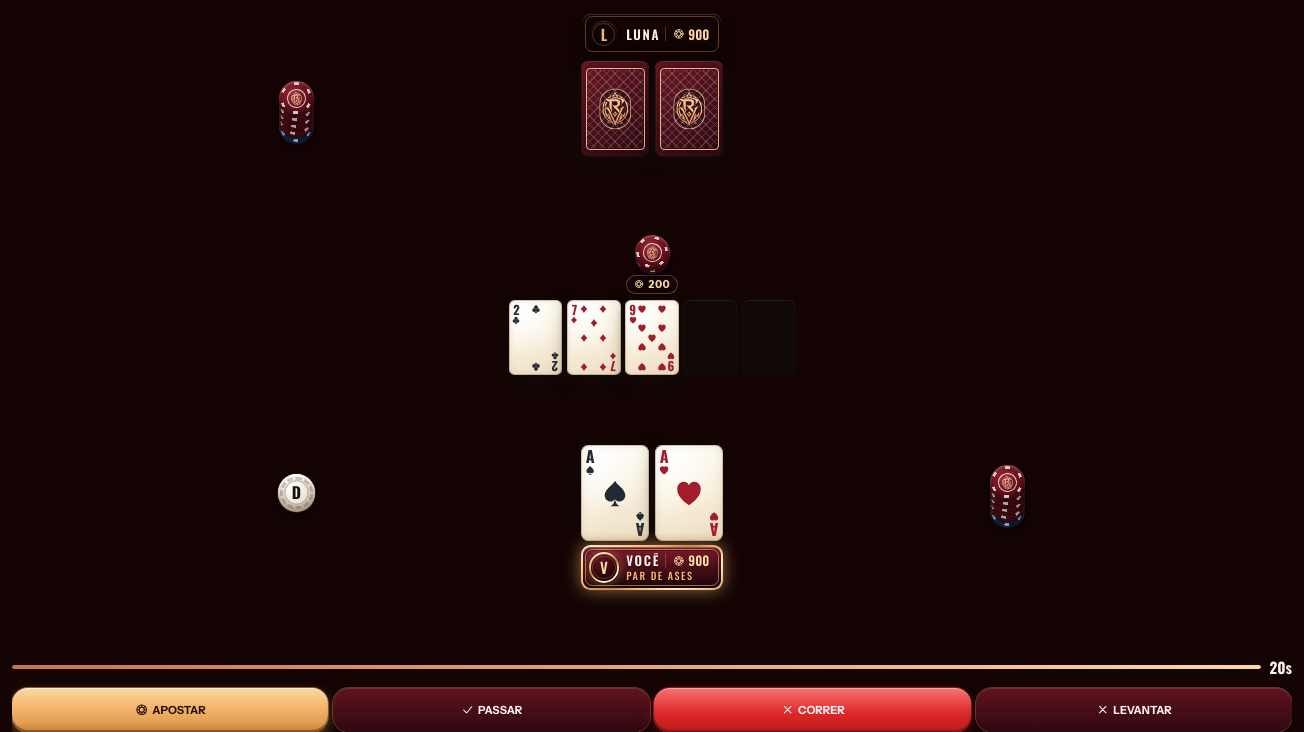
Test: PokerArena — a barra de apostas › os atalhos +10 e +100 somam ao que está no campo
The width and height of the screenshot is (1304, 732).
Click the button with test id "action-raise" at (170, 710), box [12, 688, 328, 731]
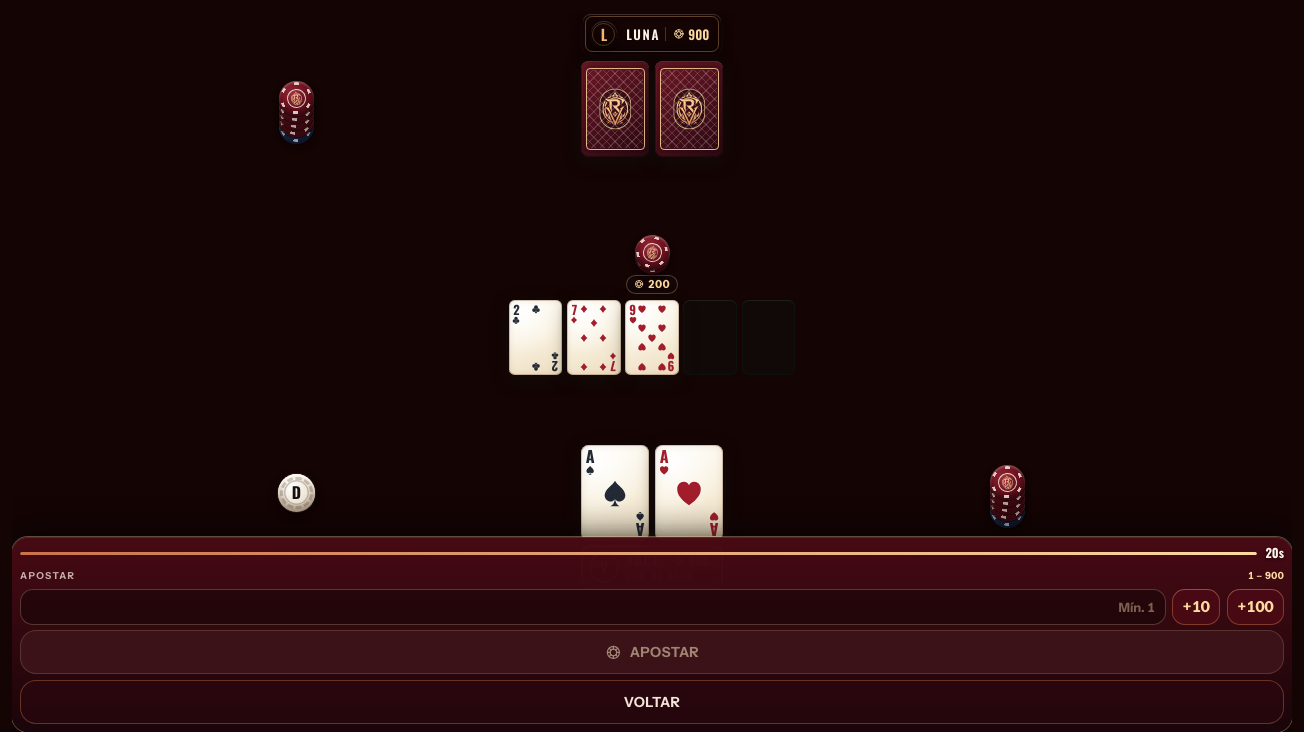
Type "100" into the field with test id "raise-input" at (593, 607), box [20, 589, 1166, 625]
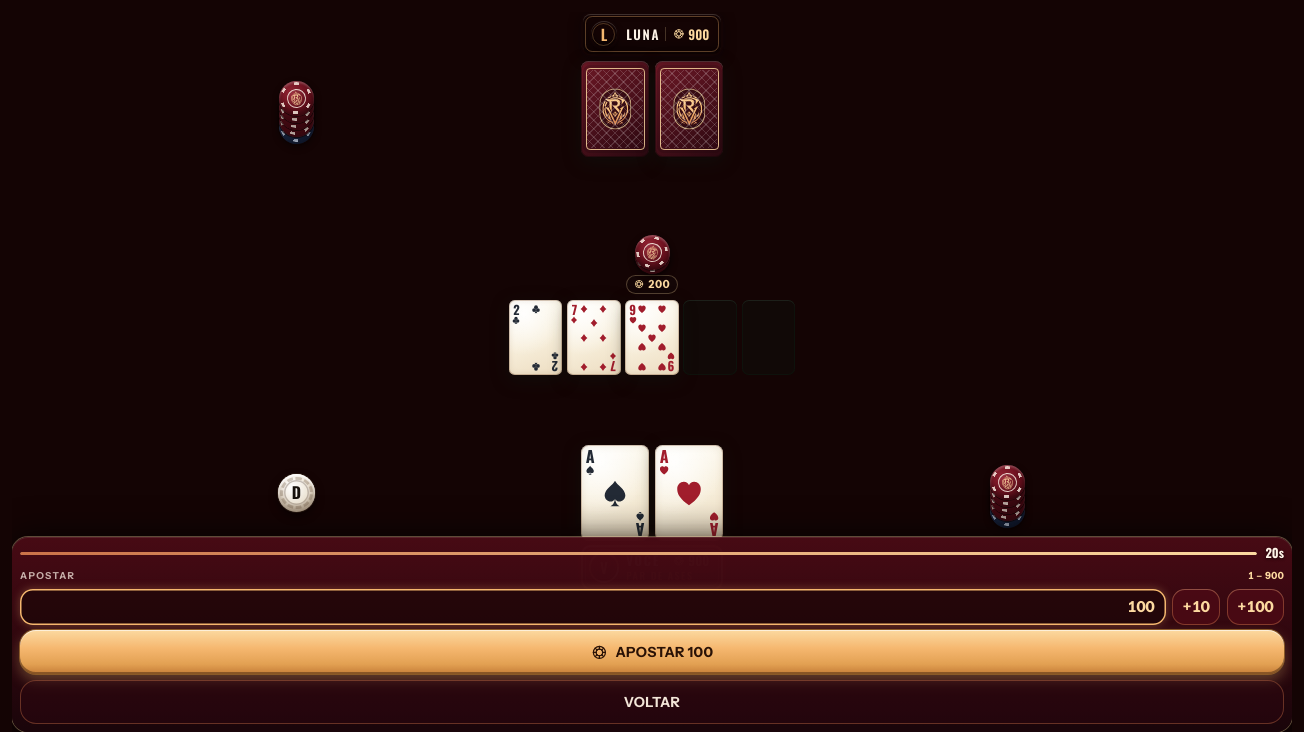
Click the button with test id "raise-plus-10" at (1196, 607), box [1172, 589, 1220, 625]
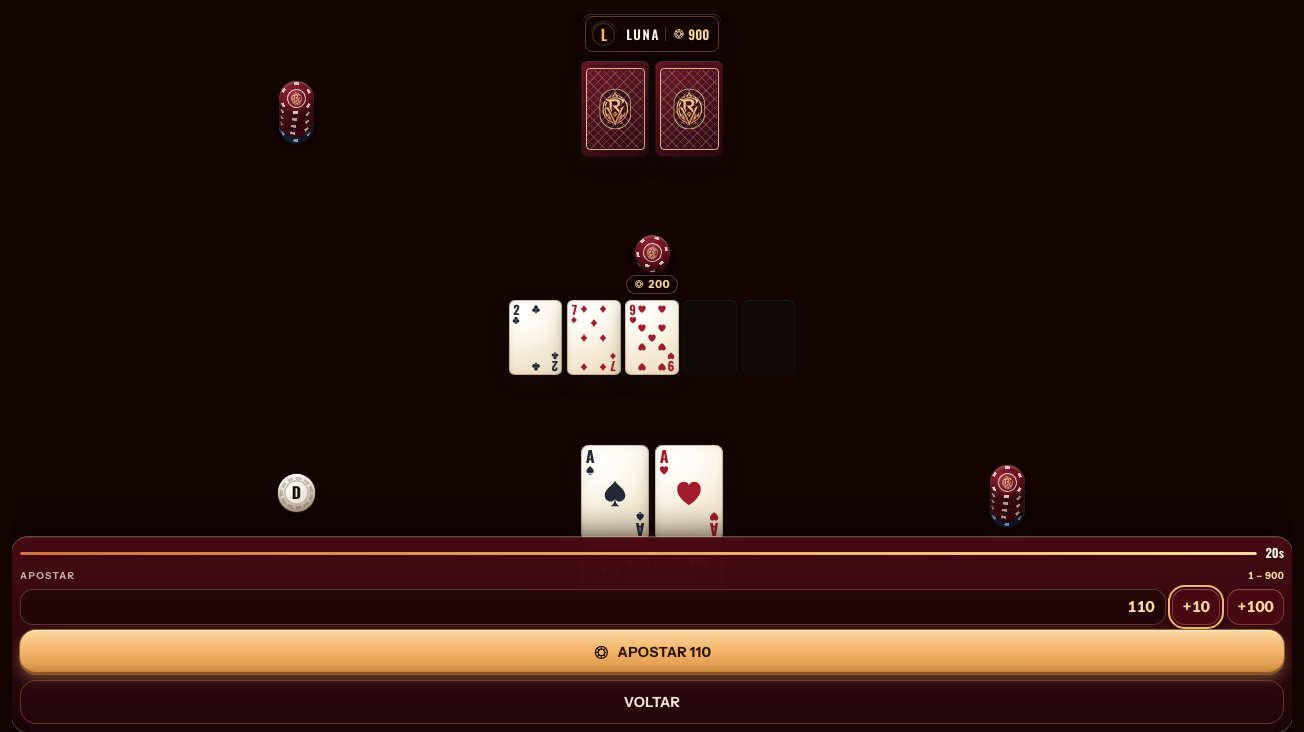
Result: the field named "Quanto apostar a mais, em créditos" holds "110" at [20, 589, 1166, 625]
Click the button with test id "raise-plus-100" at (1255, 607), box [1227, 589, 1284, 625]
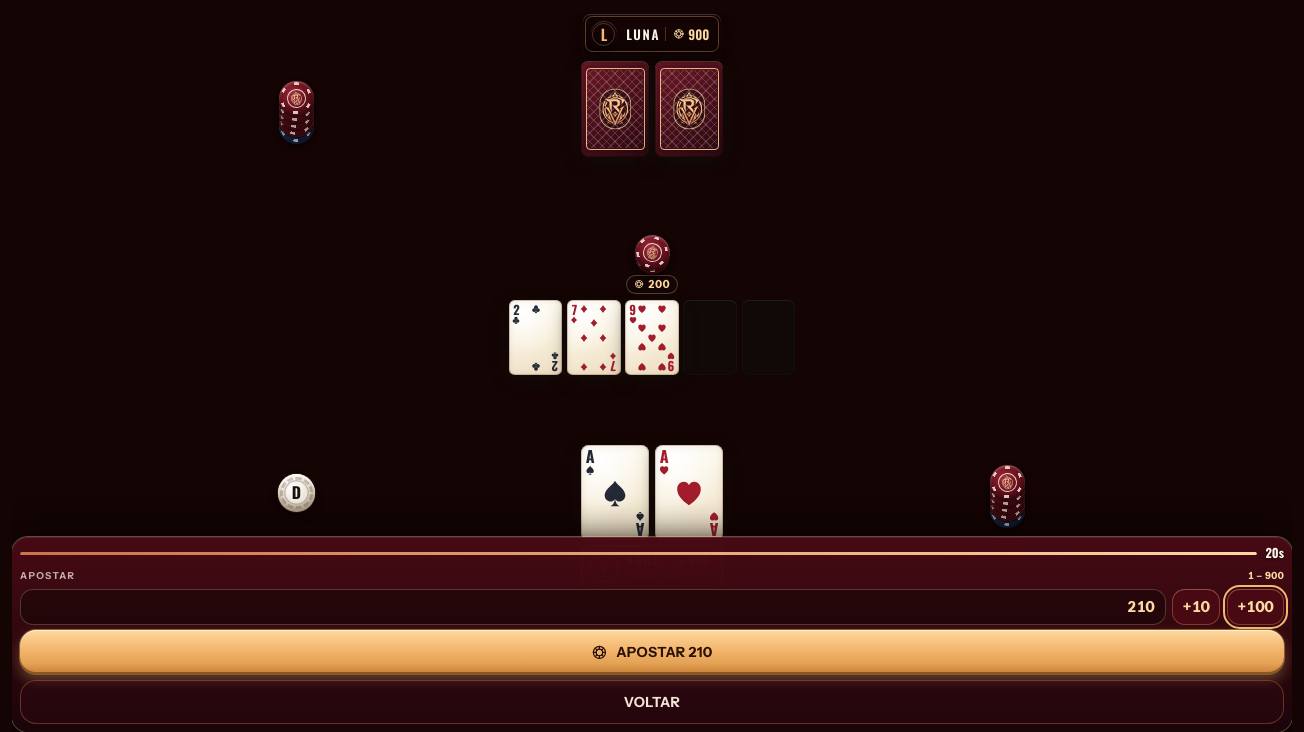
Result: the field named "Quanto apostar a mais, em créditos" holds "210" at [20, 589, 1166, 625]
